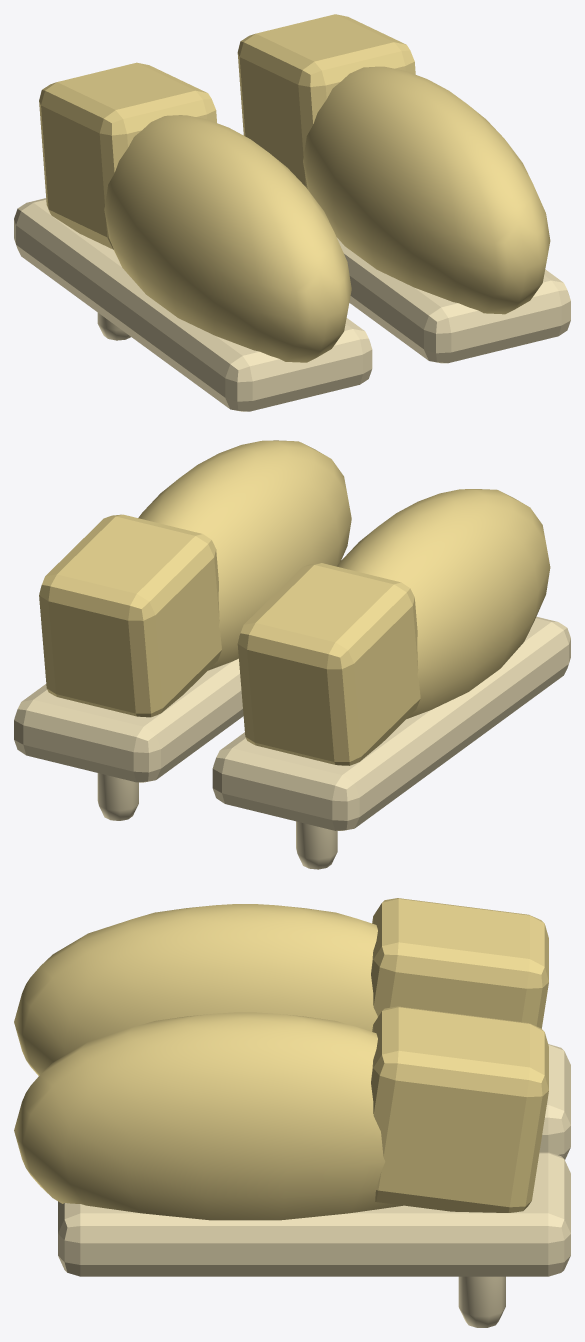
File: VM-CAL-EXT187.glb
3 renders of one model, top to bottom at view 1: azimuth 30°, elevation 25°; view 2: azimuth 150°, elevation 25°; view 3: azimuth 270°, elevation 25°, orthographic. The views are drawn at different scales.
Parts seen in each view (by area): view 1: Zapatos Dorados para Mujer; view 2: Zapatos Dorados para Mujer; view 3: Zapatos Dorados para Mujer.
Part boxes in pixels (left/top/right/bottom): Zapatos Dorados para Mujer: left=14, top=14, right=570, bottom=411; Zapatos Dorados para Mujer: left=14, top=440, right=570, bottom=869; Zapatos Dorados para Mujer: left=14, top=898, right=570, bottom=1327.
Size of the model in its own units: 0.2295 by 0.1759 by 0.2879.
